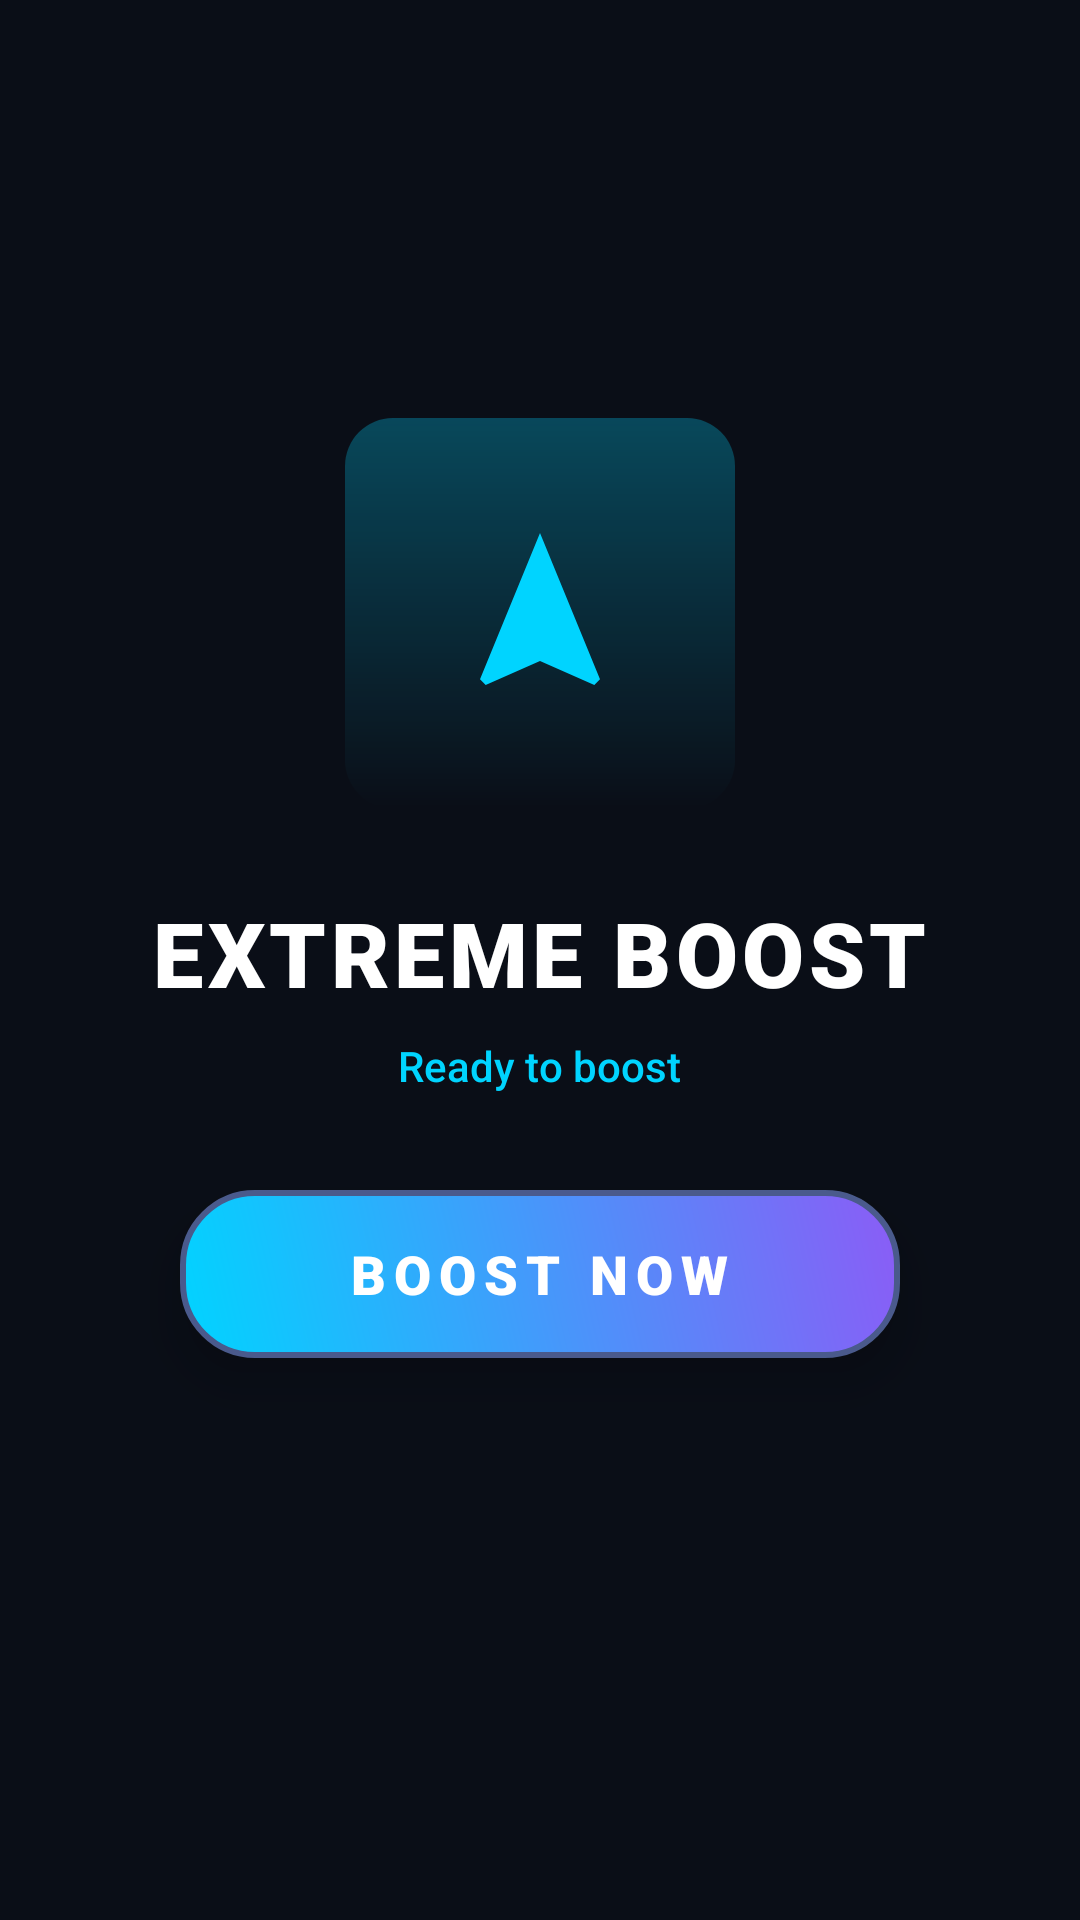

Icons on this 1080*1920 Android screen, each with the point to tap as (x=x, y=y):
boost: (x=540, y=601)
